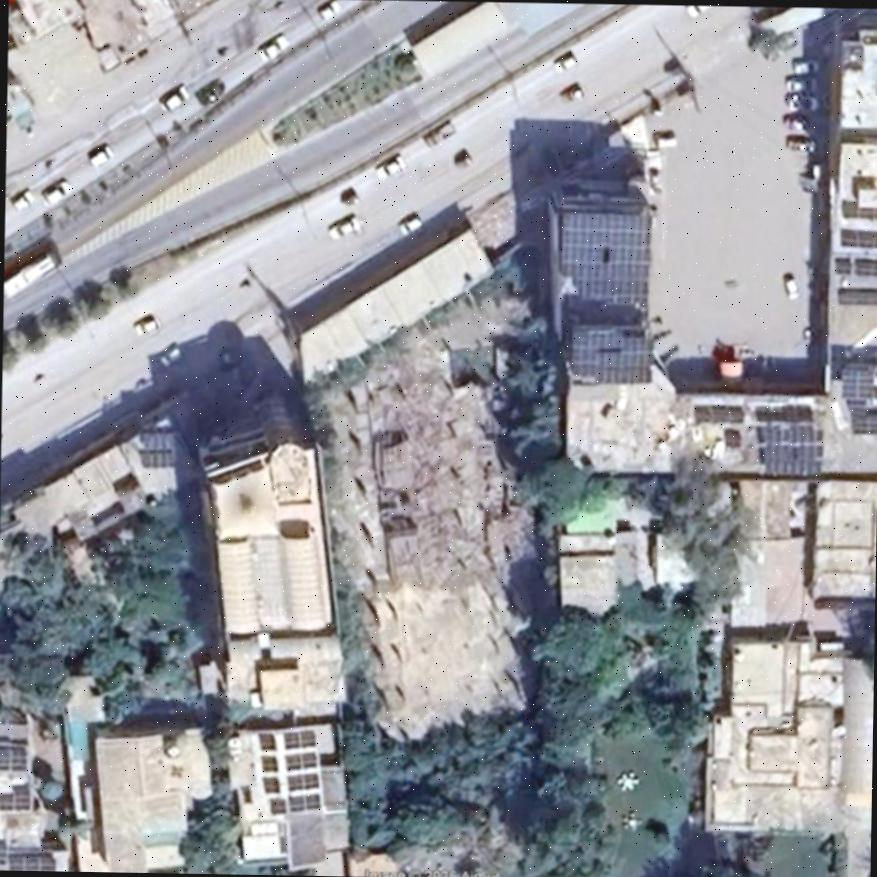Solarpanel: (561, 210, 649, 303), (572, 324, 651, 382), (755, 422, 821, 473), (142, 429, 178, 465), (11, 848, 52, 869), (843, 369, 872, 397), (0, 783, 28, 809), (0, 746, 27, 771), (838, 288, 877, 303), (851, 409, 876, 432), (843, 230, 877, 245), (281, 731, 313, 746), (843, 202, 877, 215), (290, 795, 319, 808), (286, 754, 315, 766), (288, 775, 318, 786), (855, 260, 877, 273), (0, 837, 3, 864)
